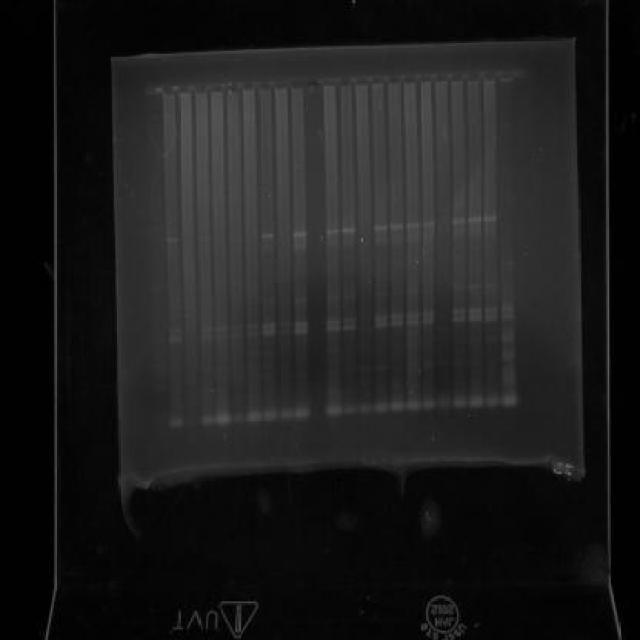B: (293, 404, 312, 422), (499, 394, 518, 408), (450, 395, 468, 408), (484, 394, 500, 408), (216, 411, 230, 427), (262, 408, 278, 422), (168, 416, 185, 429), (373, 401, 390, 414), (404, 400, 422, 412), (468, 396, 484, 409), (278, 408, 294, 421), (358, 402, 373, 415), (390, 400, 406, 412), (341, 404, 357, 416), (246, 411, 262, 422), (326, 406, 342, 417), (200, 414, 214, 426), (421, 399, 436, 410), (500, 312, 516, 322), (324, 318, 342, 326), (450, 308, 467, 316), (373, 223, 389, 231), (291, 230, 307, 238), (341, 324, 357, 332), (404, 312, 420, 320), (261, 329, 277, 337), (276, 328, 292, 336), (244, 323, 260, 331), (451, 284, 467, 292), (466, 282, 482, 290), (467, 307, 482, 315), (167, 335, 182, 343), (167, 326, 182, 334), (293, 321, 309, 328), (326, 324, 340, 332), (390, 320, 404, 328), (406, 319, 420, 327), (500, 304, 514, 312), (376, 363, 390, 371), (420, 359, 434, 367), (260, 322, 276, 329), (199, 333, 213, 341), (214, 332, 228, 340), (406, 286, 420, 294), (293, 242, 307, 250), (374, 322, 389, 329), (501, 352, 516, 359), (244, 332, 261, 338), (483, 215, 497, 222), (278, 321, 292, 328), (293, 328, 309, 334), (373, 316, 389, 322), (483, 307, 499, 313), (341, 294, 357, 300), (483, 283, 499, 289), (229, 235, 242, 242), (467, 216, 482, 222), (341, 227, 356, 233), (484, 313, 499, 319), (468, 314, 483, 320), (451, 316, 466, 322), (452, 218, 466, 224), (326, 228, 340, 234), (390, 223, 404, 229), (406, 222, 420, 228), (422, 221, 436, 227), (260, 233, 274, 239), (342, 317, 356, 323), (390, 313, 404, 319), (420, 311, 434, 317), (422, 318, 436, 324), (197, 236, 211, 242), (294, 297, 308, 303), (326, 294, 340, 300), (374, 291, 388, 297), (199, 326, 213, 332), (166, 238, 179, 244), (215, 326, 228, 332)
L: (138, 65, 516, 101)
Pc: (402, 71, 418, 87), (481, 69, 497, 83), (466, 68, 480, 84), (450, 69, 464, 85), (304, 77, 320, 91), (289, 77, 305, 91), (241, 80, 256, 94), (177, 82, 191, 96), (194, 82, 208, 96), (209, 82, 223, 96), (226, 82, 240, 96), (370, 74, 384, 88), (356, 76, 370, 90), (338, 76, 352, 90), (322, 76, 336, 90), (258, 80, 272, 94), (498, 70, 514, 82), (418, 72, 432, 85), (434, 72, 448, 85), (274, 79, 288, 92), (386, 74, 400, 86), (160, 85, 173, 94), (144, 87, 158, 95)
